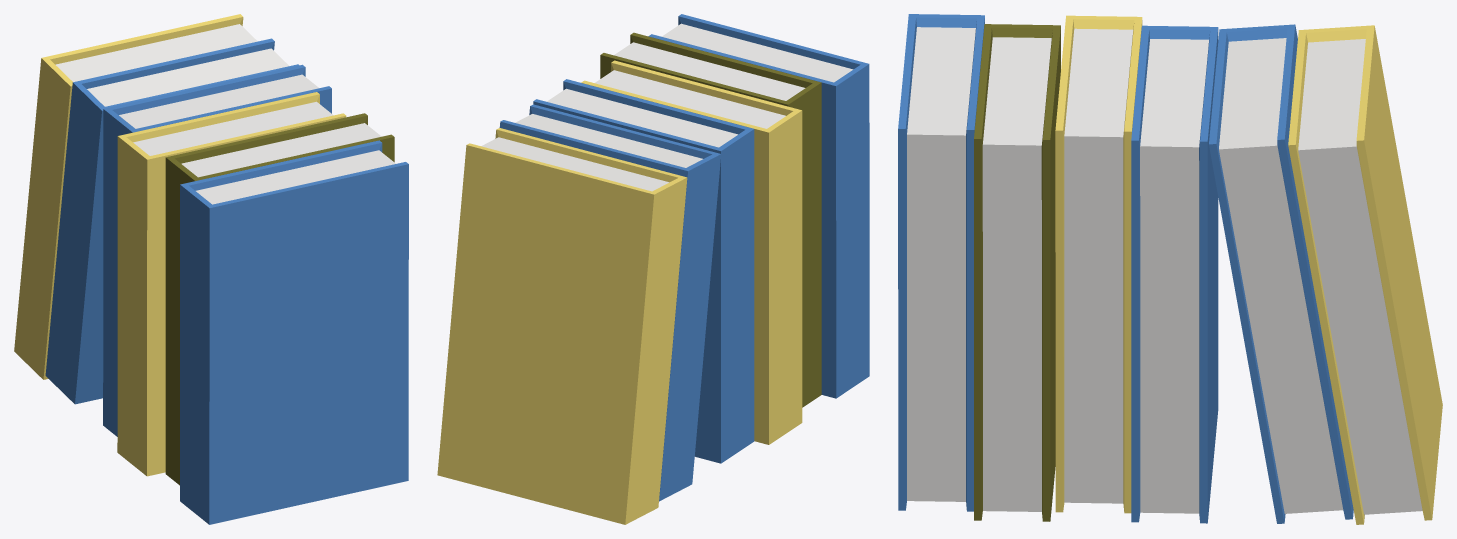
File: Books_14.fbx
3 views of the same model, side by side, from view 1: azimuth 30°, elevation 25°; view 2: azimuth 150°, elevation 25°; view 3: azimuth 270°, elevation 25° (orthographic). The views are drawn at different scales.
Visible parts, largest first — view 1: Books_14; view 2: Books_14; view 3: Books_14.
Boxes of the visible parts, x1,y1,x2,y2 form: Books_14: (14,14,408,524); Books_14: (437,14,869,524); Books_14: (898,14,1442,524).
Bounding box in the file's own units: 34.57 × 61.21 × 47.82.
